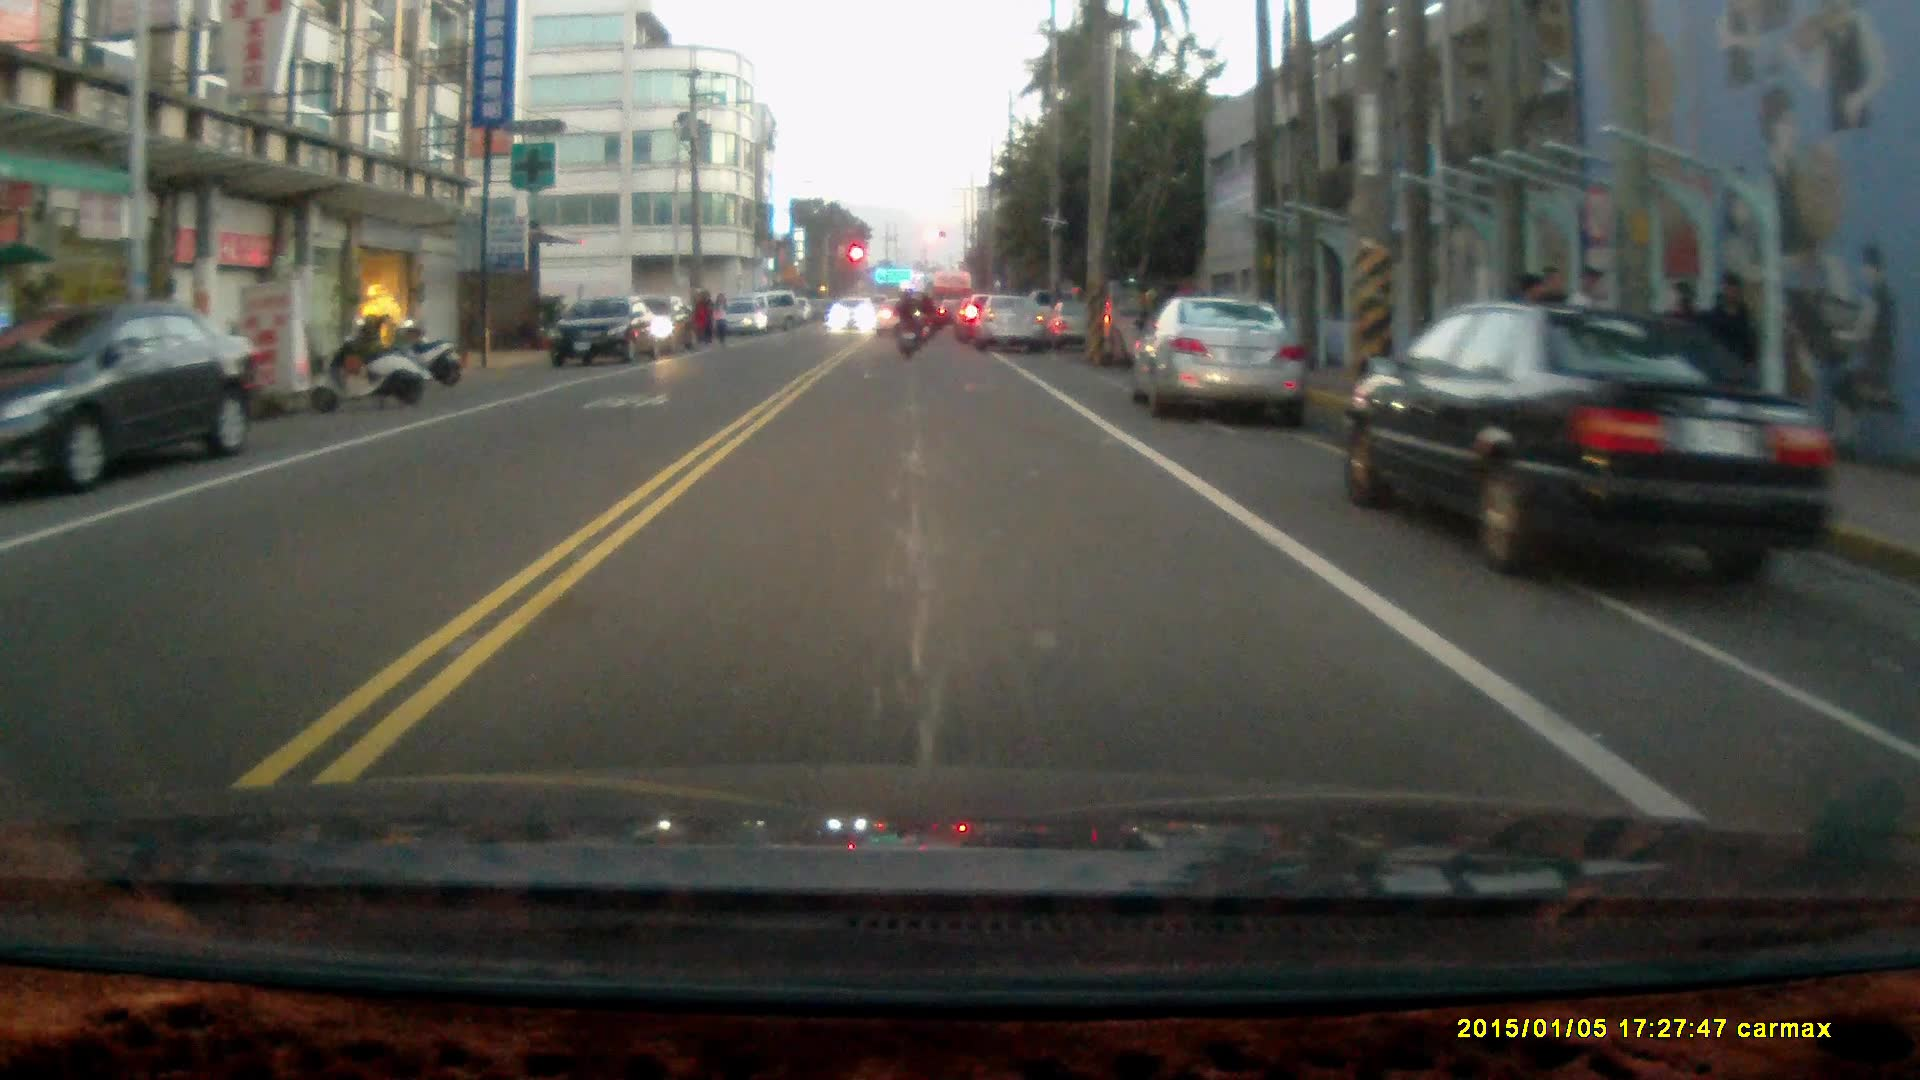pedestrian: (1701, 268, 1763, 418), (693, 289, 715, 350), (708, 289, 728, 349)
rider: (892, 285, 925, 361)
vehicle: (1336, 300, 1843, 598), (1, 305, 267, 488), (1132, 297, 1309, 420), (549, 301, 671, 375), (975, 294, 1049, 351)
